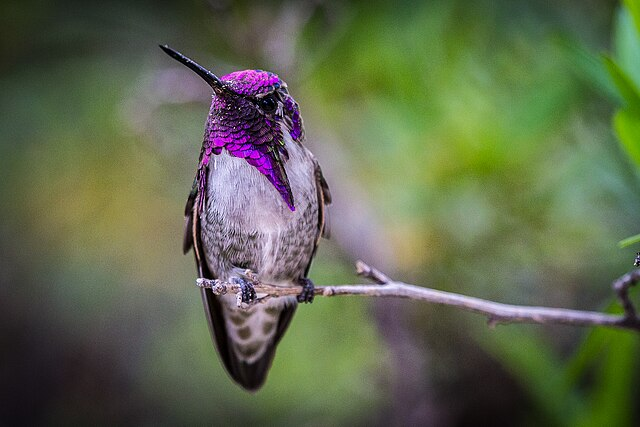calypte costae: (155, 42, 333, 392)
